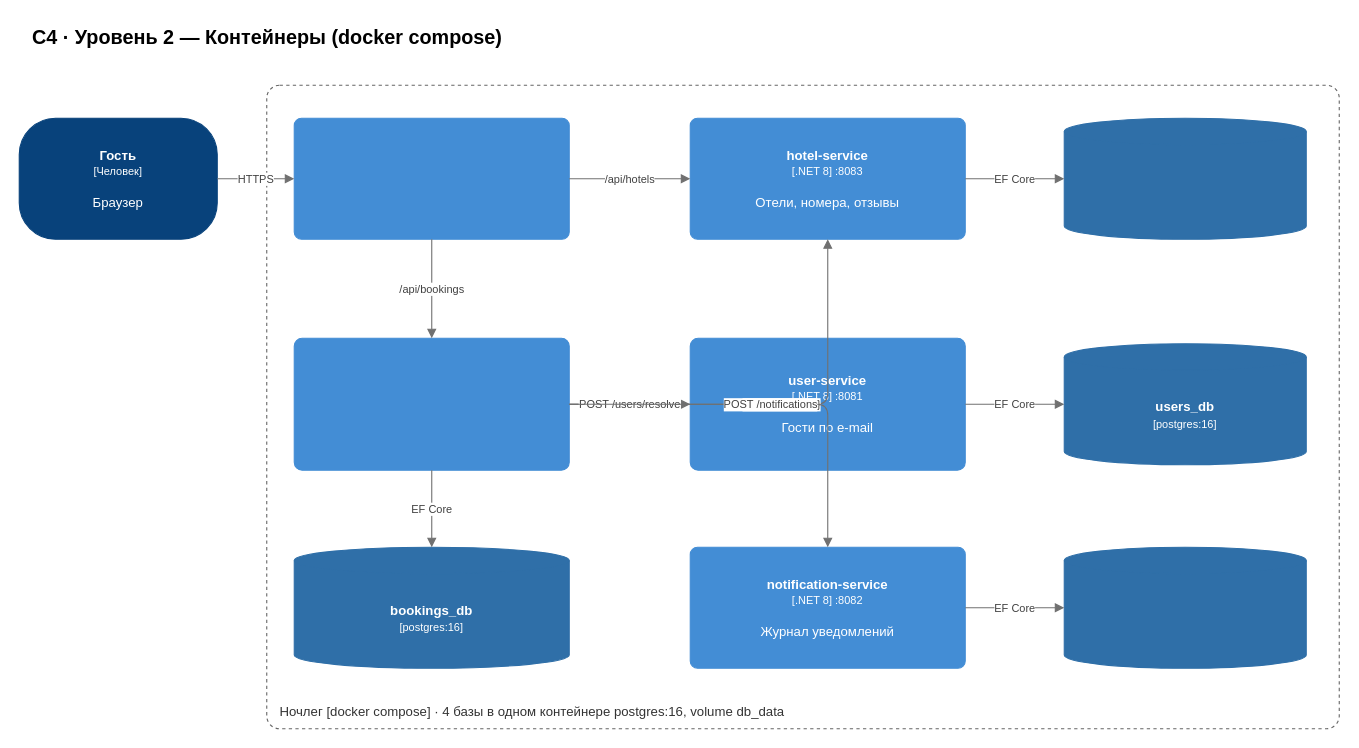
The diagram is 1359 pixels wide and 748 high, and some of its shapes have lost their labels. Here are the shapes that lost their labels. From the top down, the centre of each, then its label:
the point at 431,178: web [nginx 1.27] :8000 Сайт и API-шлюз /api/*
the point at 1184,178: hotels_db [postgres:16]
the point at 431,403: booking-service [.NET 8] :8080 Брони, проверка дат, связывает сервисы
the point at 1184,607: notifications_db [postgres:16]
